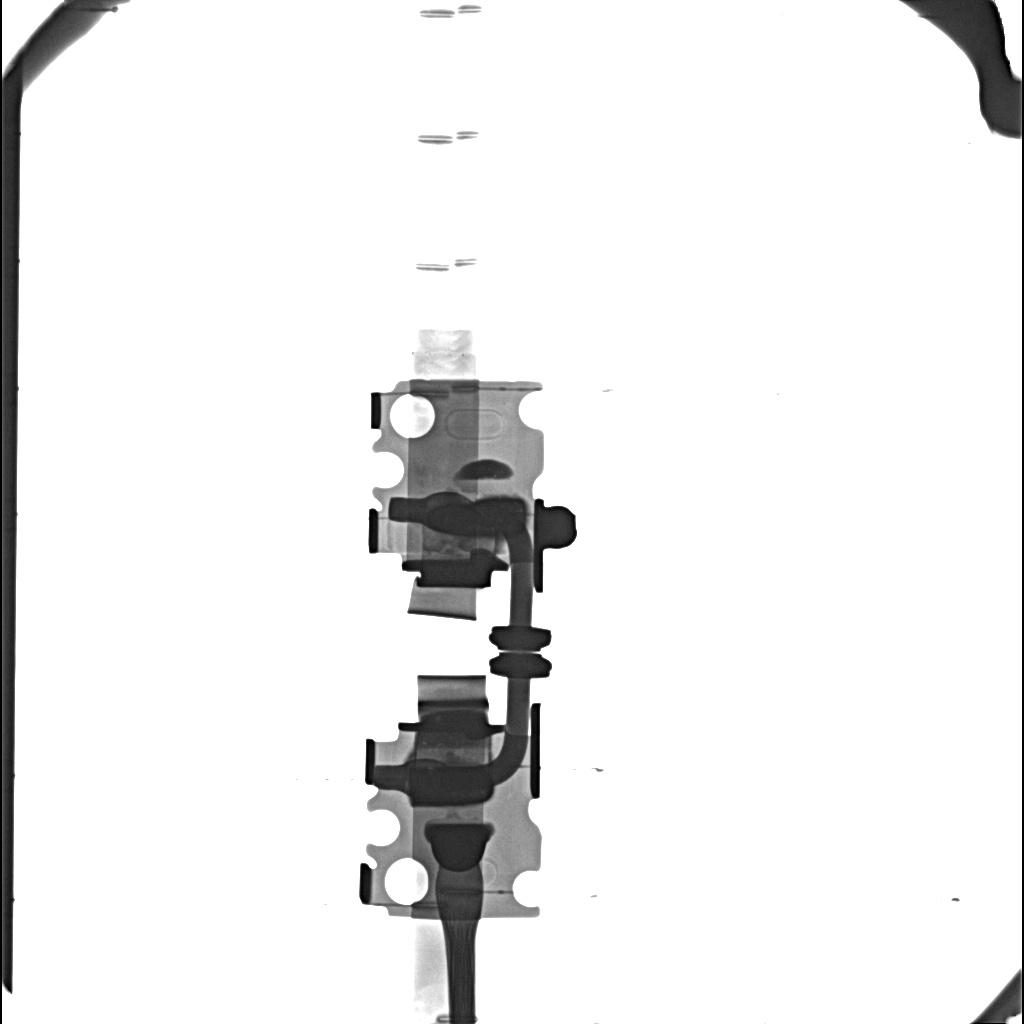defect: (428, 498, 524, 535), (409, 767, 492, 804)
